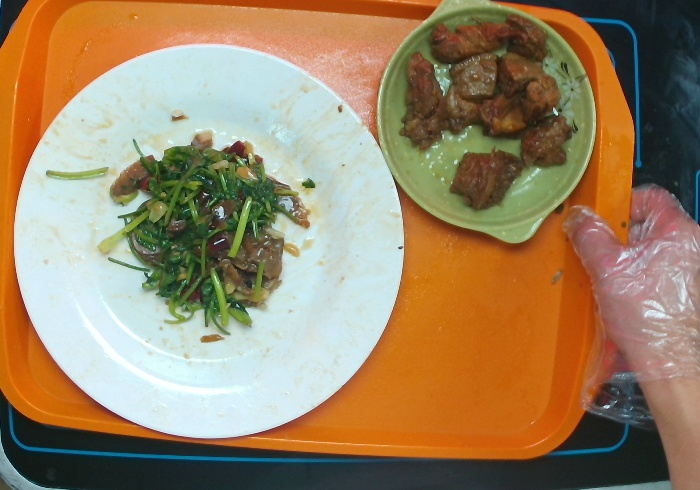NLDX-Da_Yuan_Pan: (12, 41, 406, 441)
NLDX-Lv_Hua_Shuang_Er_Die: (375, 1, 597, 245)
